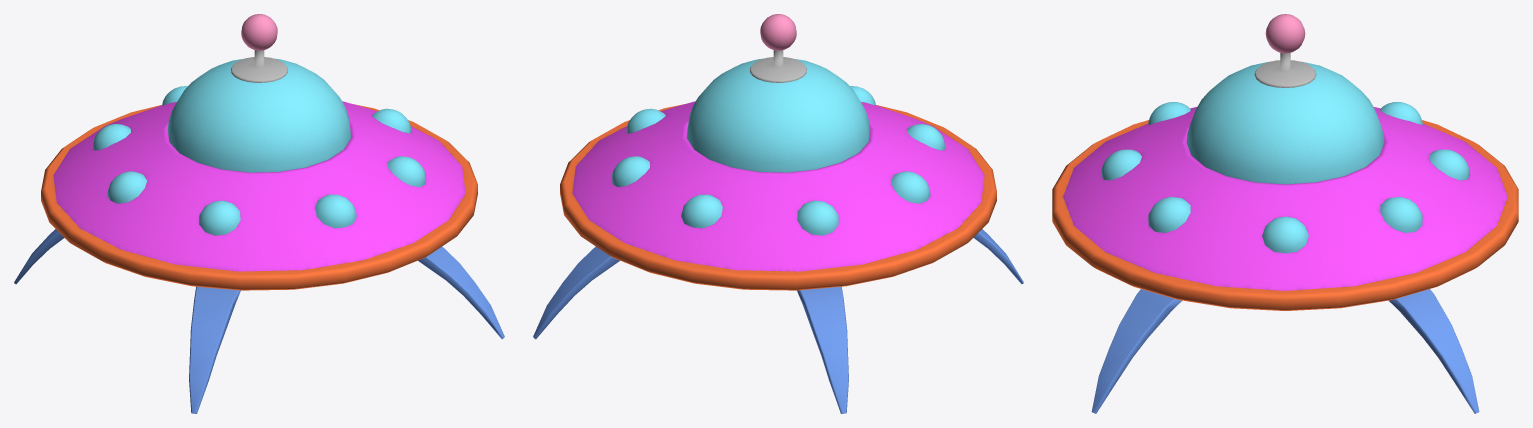
Rendered from ufopurple.fbx.
3 renders of one model, left to right at view 1: azimuth 30°, elevation 25°; view 2: azimuth 150°, elevation 25°; view 3: azimuth 270°, elevation 25°, orthographic. The views are drawn at different scales.
Parts seen in each view (by area): view 1: ufobody, ufomado1, ufoasi, ufomado, ufoue, ufoball; view 2: ufobody, ufomado1, ufoasi, ufomado, ufoue, ufoball; view 3: ufobody, ufomado1, ufoasi, ufomado, ufoue, ufoball.
Boxes of the visible parts, x1,y1,x2,y2 form: ufobody: [41, 101, 477, 290]; ufomado1: [168, 58, 350, 172]; ufoasi: [14, 229, 504, 413]; ufomado: [93, 86, 425, 235]; ufoue: [231, 50, 287, 82]; ufoball: [241, 14, 277, 50]; ufobody: [560, 101, 996, 290]; ufomado1: [687, 58, 869, 172]; ufoasi: [533, 229, 1023, 413]; ufomado: [612, 86, 944, 235]; ufoue: [750, 50, 806, 82]; ufoball: [760, 14, 796, 50]; ufobody: [1052, 107, 1518, 310]; ufomado1: [1186, 61, 1384, 184]; ufoasi: [1091, 289, 1479, 413]; ufomado: [1101, 102, 1469, 253]; ufoue: [1254, 53, 1316, 87]; ufoball: [1265, 14, 1305, 53].
Size of the model in its own units: 8.54 by 6.37 by 8.48.
